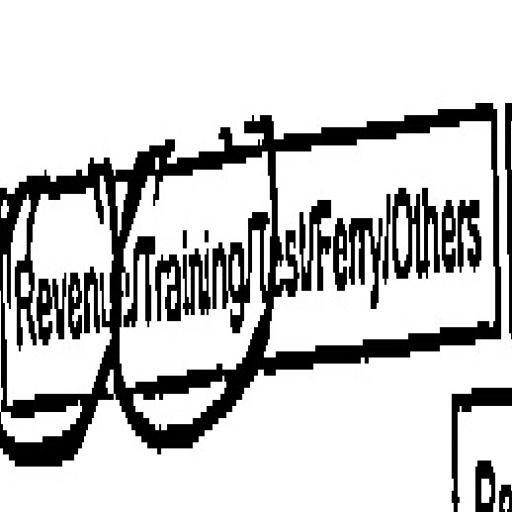check: (1, 112, 121, 504), (125, 108, 248, 460)
